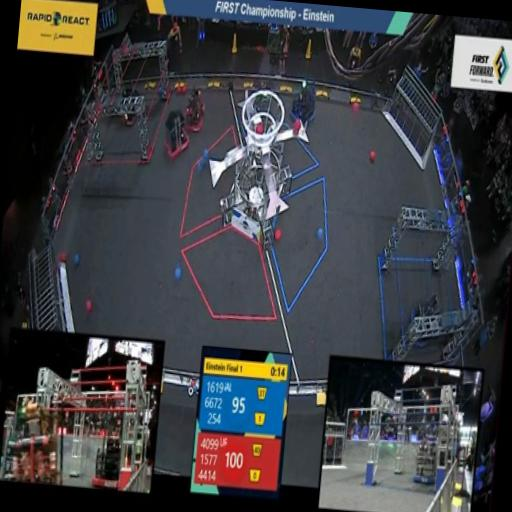robot: (284, 64, 322, 132), (404, 288, 442, 350), (159, 104, 191, 168), (114, 76, 144, 132), (180, 82, 210, 138)
